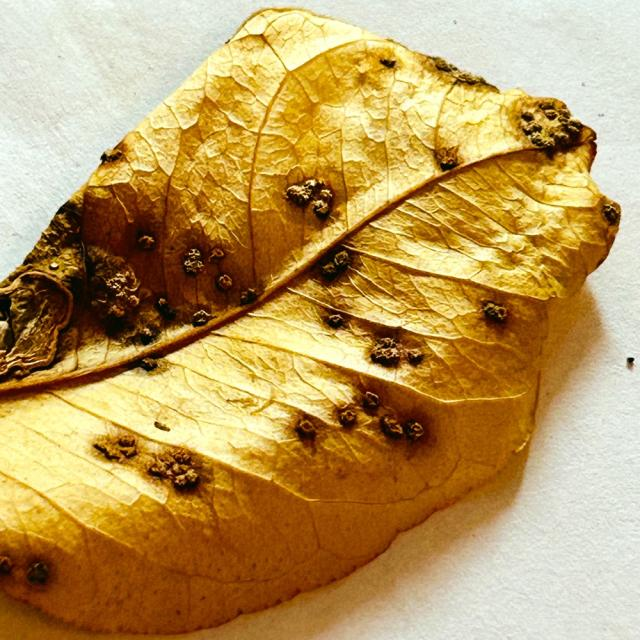DryLeaf_Lemon: (0, 8, 620, 632)
